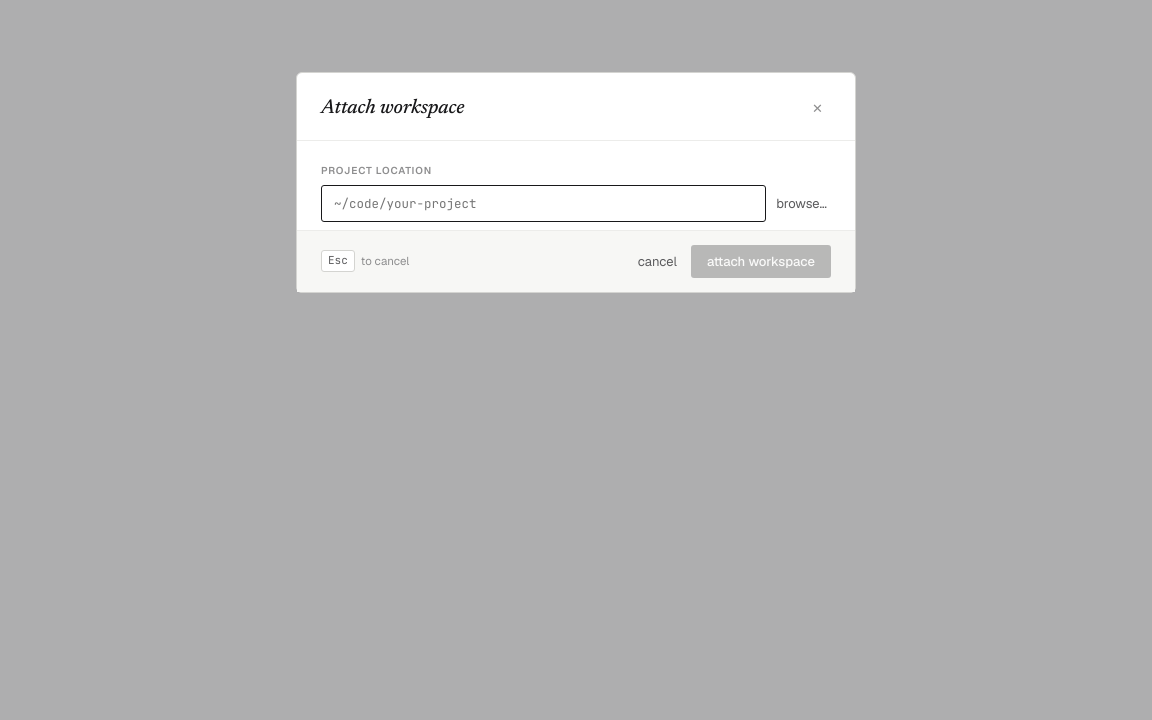
Test: SPEC-ui-015 — SDD detection preview and command peek › SPEC-ui-015: detected .sdd shows "attach workspace" label and an "Existing .sdd/ detected" preview
Type "/existing/sdd/repo" into the field with placeholder "~/code/your-project". click: (544, 203)
box: x1=321 y1=184 x2=766 y2=222
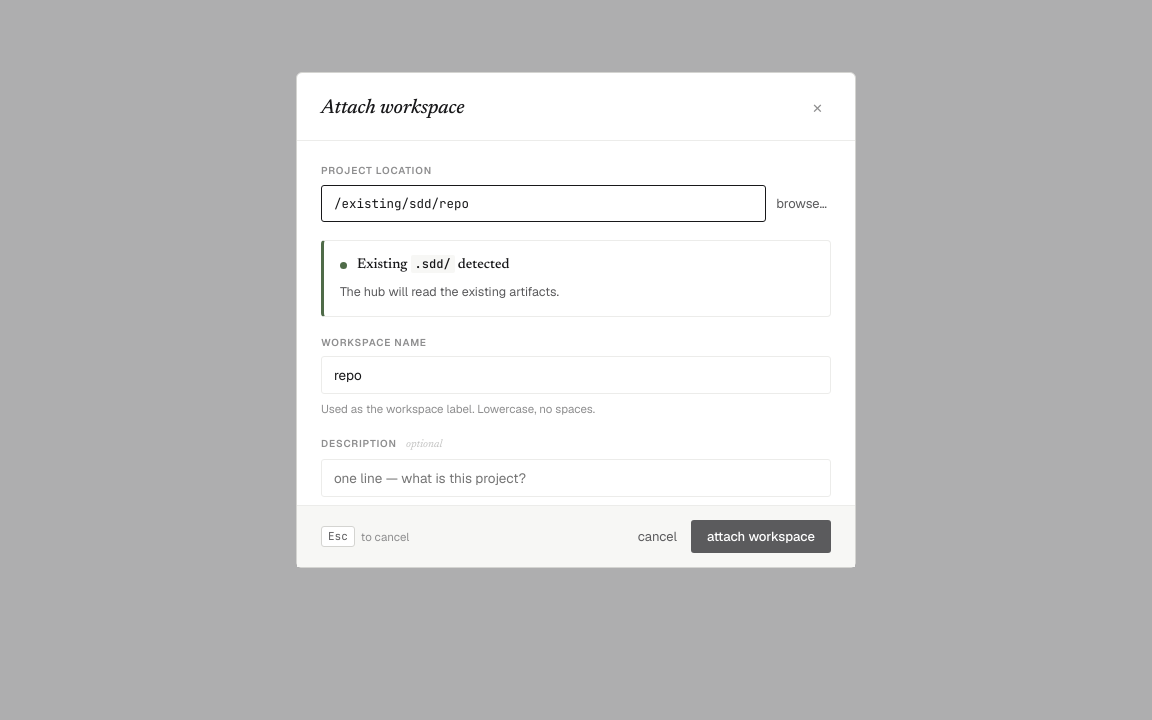
expect the button with class "dlg-submit" reads "attach workspace": met, box x1=691 y1=520 x2=831 y2=553
expect the element with class "dlg-preview" is shown: met, box x1=321 y1=240 x2=831 y2=317
expect the element with class "dlg-preview" shows "detected": met, box x1=455 y1=258 x2=510 y2=272
